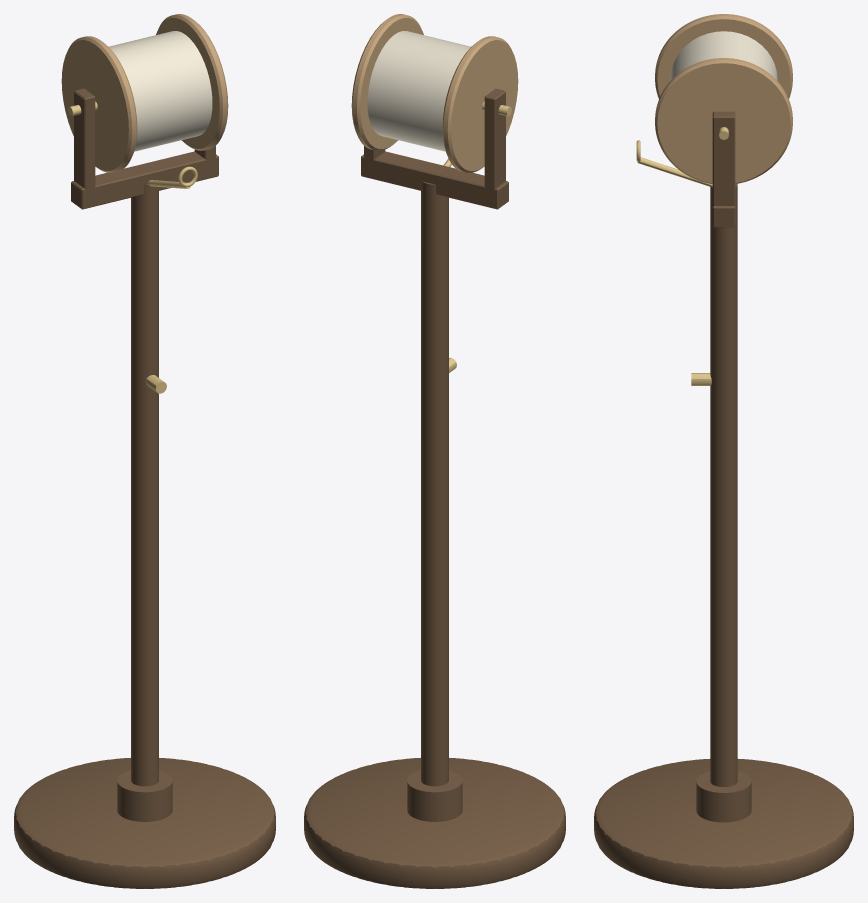
Rendered from string_spool.glb.
The picture shows the model from 3 angles, left to right: view 1: azimuth 30°, elevation 25°; view 2: azimuth 150°, elevation 25°; view 3: azimuth 270°, elevation 25°; orthographic projection.
Visible parts, largest first — view 1: StringSpool; view 2: StringSpool; view 3: StringSpool.
Part boxes in pixels (x1,y1,x2,y2): StringSpool: (14,14,275,888); StringSpool: (304,14,565,888); StringSpool: (594,14,853,888).
Bounding box in the file's own units: 0.3194 × 1.08 × 0.3194.
